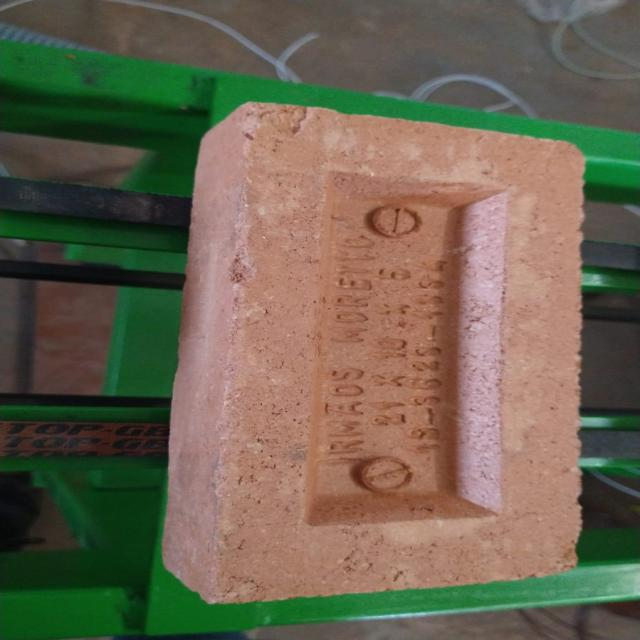bricks: (158, 102, 584, 600)
